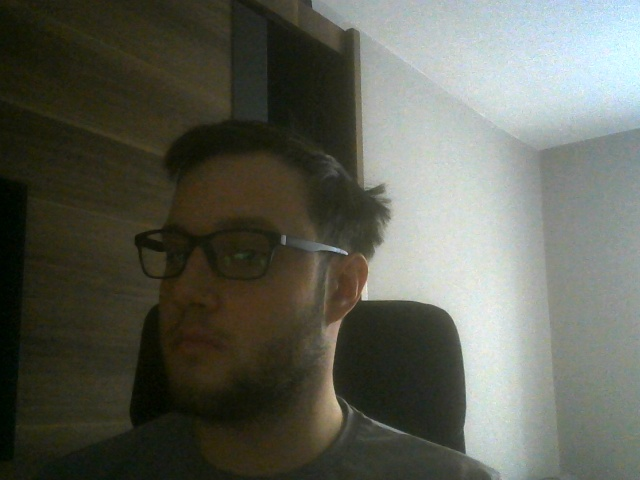neutral: (135, 121, 369, 417)
